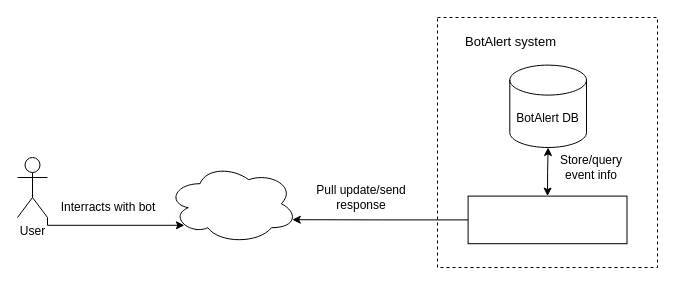
This 675x285 diagram has some shape labels left out. Each missing label, with the centre of its shape:
"BotAlert Service" goes at (x=547, y=219).
"Telegram API" goes at (x=232, y=203).
